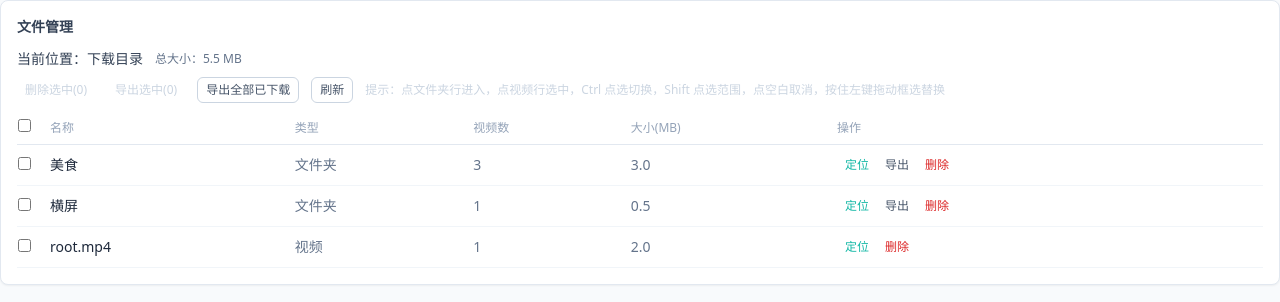
Test case: FileManager（文件管理 tab） › 根目录顶部显示总大小（GB/MB 自适应）；进入子文件夹显示「当前文件夹共 X」
The width and height of the screenshot is (1280, 302).
Expected: the text "总大小：5.5 MB" is shown, [155,51,242,67]
Click the text "美食" at (64, 164), box [49,144,294,186]
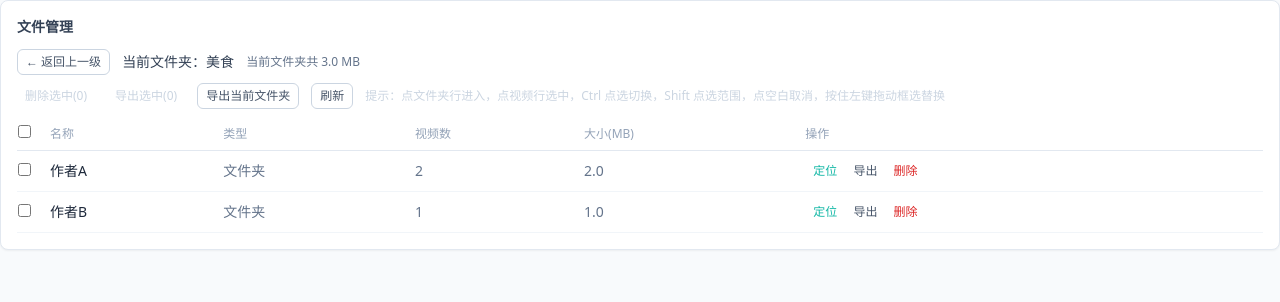
Now the text "作者A" is shown, box [49,150,222,192]
Now the text "当前文件夹共 3.0 MB" is shown, box [246,54,360,70]
